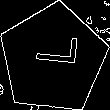L_W: (27, 41, 79, 77)
